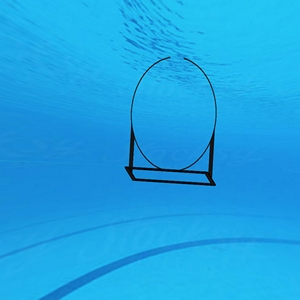circle: (123, 53, 223, 193)
